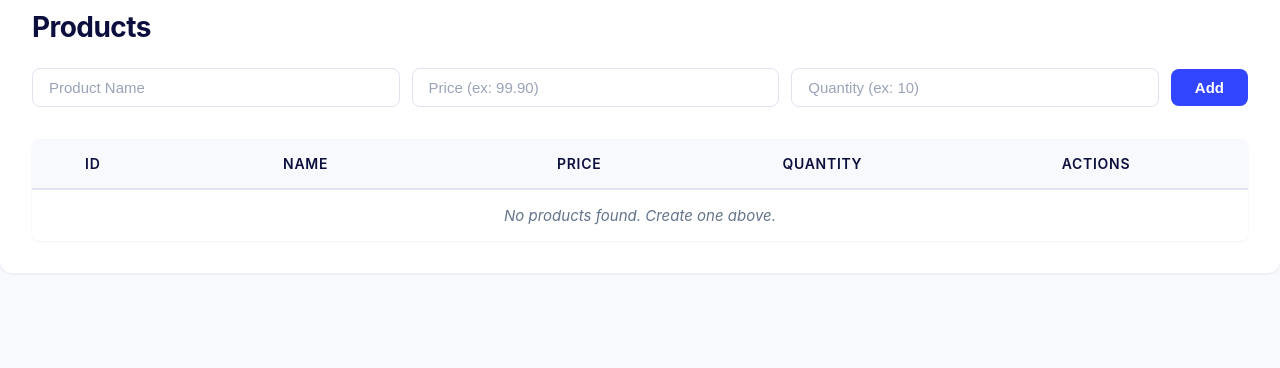
Test: Products Component - Suite Completa › Tratamento de Erros › exibe erro ao falhar criação de produto
Type "Test" into the field with placeholder "Product Name".
click(216, 88); type("Test")  # box [32,68,400,107]
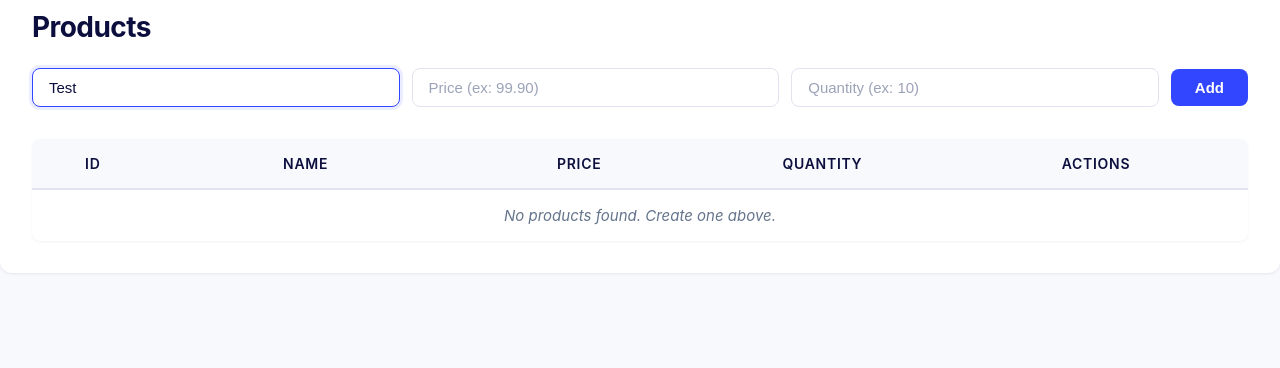
Type "100" into the number field with placeholder "Price (ex: 99.90)".
click(595, 88); type("100")  # box [412,68,779,107]
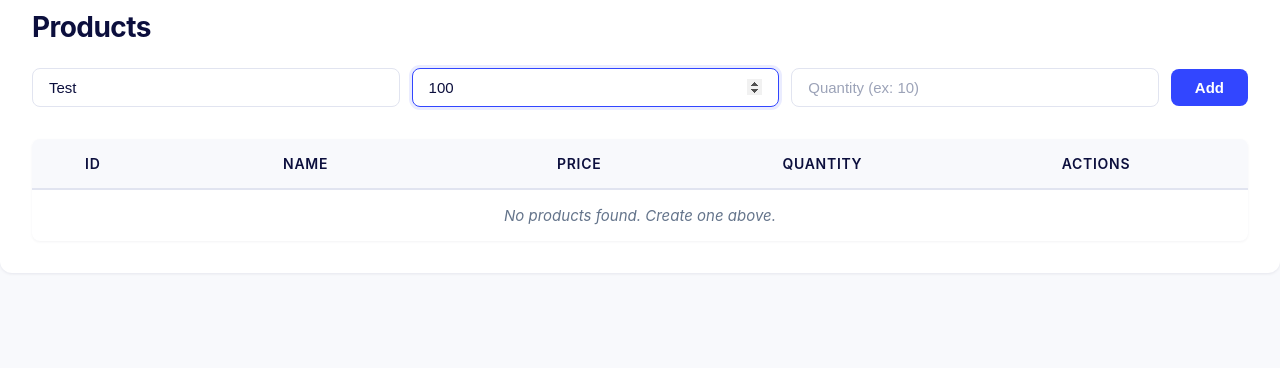
Type "5" into the number field with placeholder "Quantity (ex: 10)".
click(975, 88); type("5")  # box [791,68,1159,107]
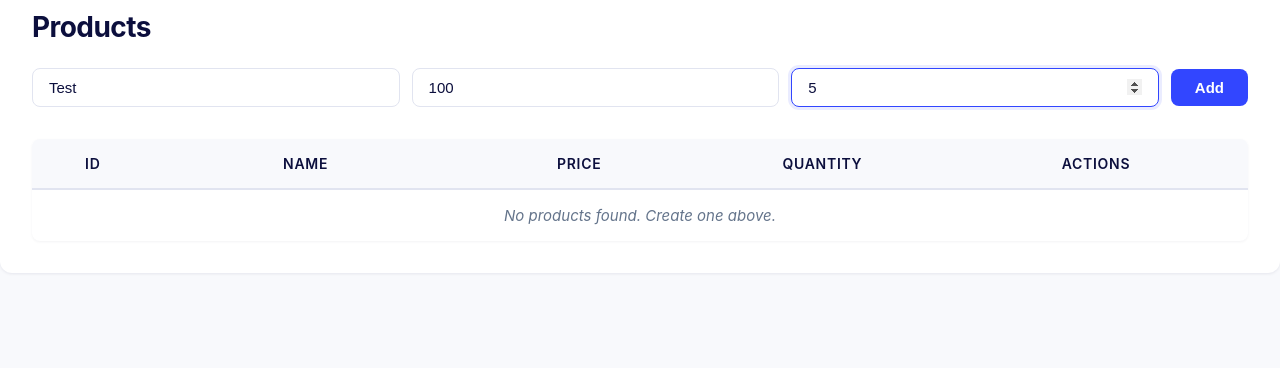
Click the button "Add".
click(1209, 88)  # box [1171,69,1248,106]
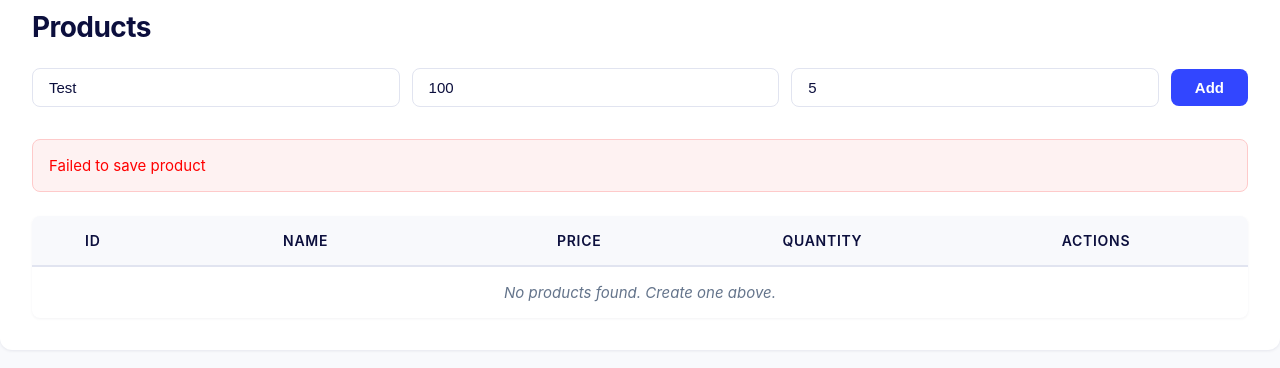
Expected: the text "Failed to save product" is shown, [32,139,1248,192]
